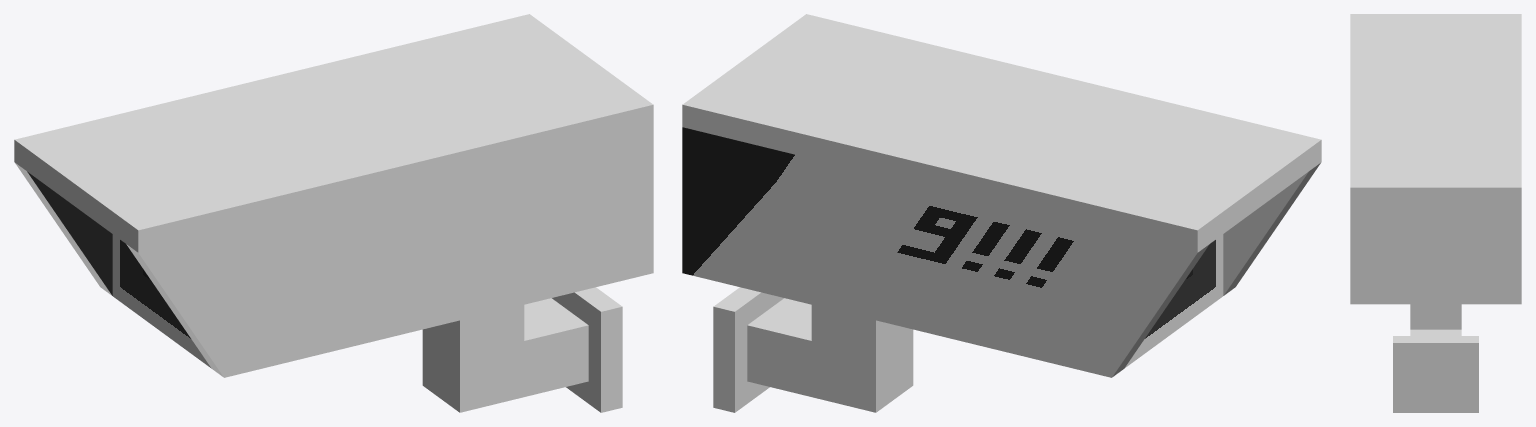
The model's file is scamera.fbx.
3 views of the same model, side by side, from view 1: azimuth 30°, elevation 25°; view 2: azimuth 150°, elevation 25°; view 3: azimuth 270°, elevation 25° (orthographic). The views are drawn at different scales.
Parts seen in each view (by area): view 1: cube_3, cube_1, cube_5, cube_6, cube_2, cube, cube_4; view 2: cube_3, cube, cube_5, cube_6, cube_2, cube_1, cube_4; view 3: cube_3, cube_2, cube_6, cube, cube_1, cube_4, cube_5.
Boxes of the visible parts, left/top/right/bottom form: cube_3: left=14, top=14, right=653, bottom=252; cube_1: left=126, top=127, right=653, bottom=377; cube_5: left=422, top=298, right=588, bottom=412; cube_6: left=552, top=287, right=622, bottom=412; cube_2: left=112, top=234, right=211, bottom=368; cube: left=15, top=163, right=112, bottom=295; cube_4: left=423, top=305, right=524, bottom=356; cube_3: left=682, top=14, right=1321, bottom=252; cube: left=682, top=127, right=1209, bottom=377; cube_5: left=747, top=298, right=913, bottom=412; cube_6: left=713, top=287, right=783, bottom=412; cube_2: left=1124, top=234, right=1223, bottom=368; cube_1: left=1223, top=163, right=1320, bottom=295; cube_4: left=811, top=305, right=912, bottom=356; cube_3: left=1350, top=14, right=1521, bottom=203; cube_2: left=1367, top=203, right=1504, bottom=304; cube_6: left=1393, top=336, right=1478, bottom=412; cube: left=1504, top=203, right=1521, bottom=304; cube_1: left=1350, top=203, right=1367, bottom=304; cube_4: left=1410, top=304, right=1461, bottom=329; cube_5: left=1410, top=329, right=1461, bottom=335.
Bounding box in the file's own units: 15 × 9.06 × 6.25.
Materials: 3 (3 with a texture image).
